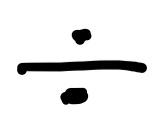div: (16, 30, 147, 108)
